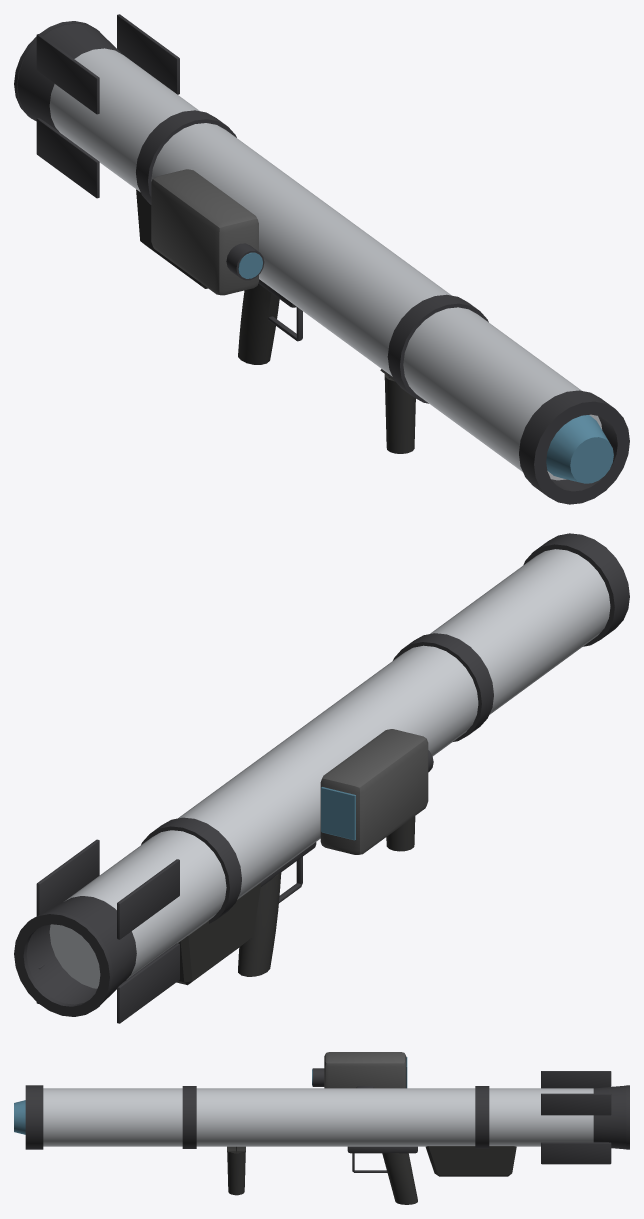
File: ibis.glb
The picture shows the model from 3 angles, top to bottom: view 1: azimuth 30°, elevation 25°; view 2: azimuth 150°, elevation 25°; view 3: azimuth 270°, elevation 25°; orthographic projection. The views are drawn at different scales.
Parts seen in each view (by area): view 1: Body; view 2: Body; view 3: Body.
Boxes of the visible parts, left/top/right/bottom form: Body: left=14, top=14, right=629, bottom=504; Body: left=14, top=533, right=629, bottom=1023; Body: left=14, top=1052, right=629, bottom=1204.
Size of the model in its own units: 0.177 by 0.2278 by 1.05.
